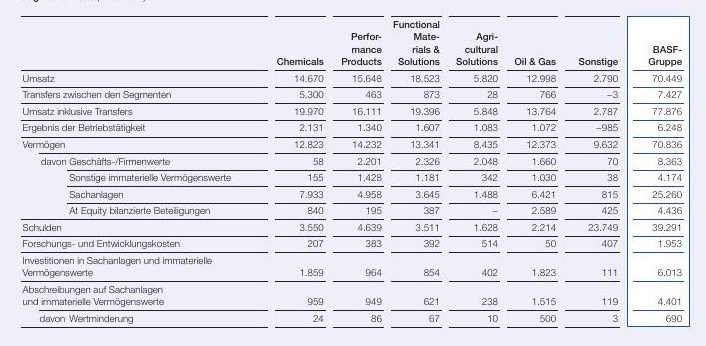table: (0, 0, 706, 346)
